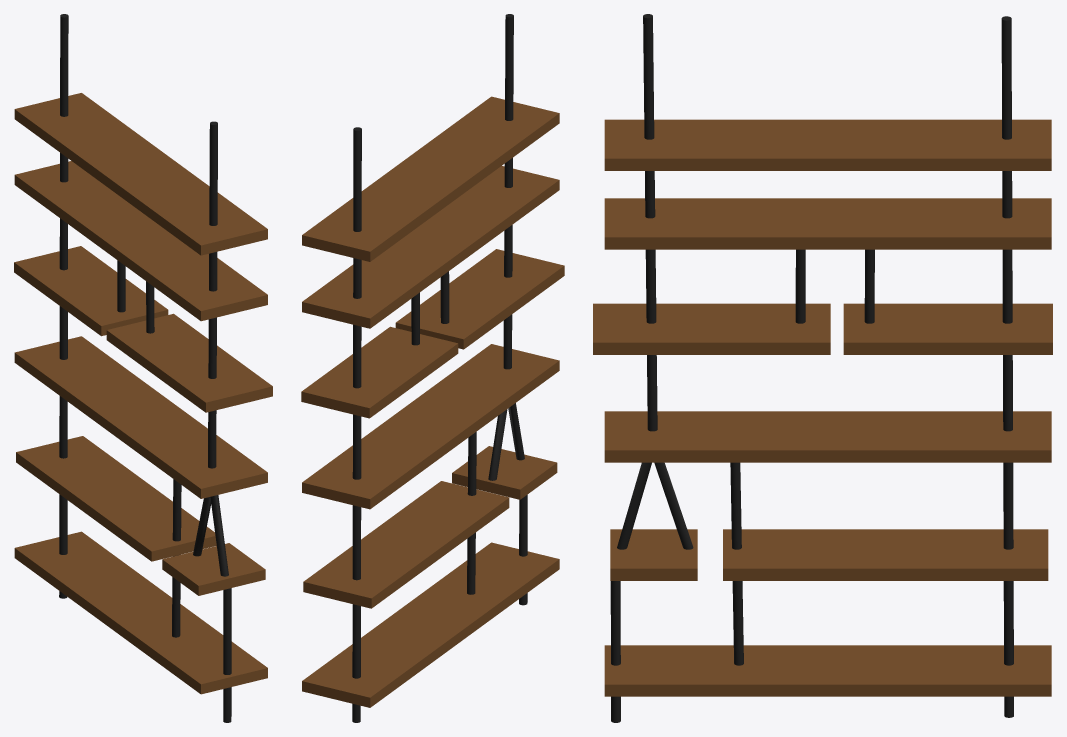
3 views of the same model, side by side, from view 1: azimuth 30°, elevation 25°; view 2: azimuth 150°, elevation 25°; view 3: azimuth 270°, elevation 25° (orthographic). The views are drawn at different scales.
Parts seen in each view (by area): view 1: shelving; view 2: shelving; view 3: shelving.
Part boxes in pixels (<box>): shelving: <box>14,14,272,722</box>; shelving: <box>301,14,564,722</box>; shelving: <box>593,14,1052,722</box>.
Bounding box in the file's own units: 0.2149 × 1.8 × 1.06.
